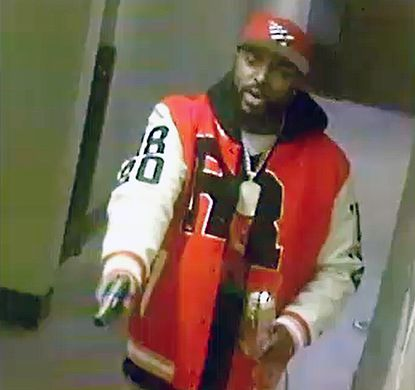gun: (88, 265, 140, 332)
